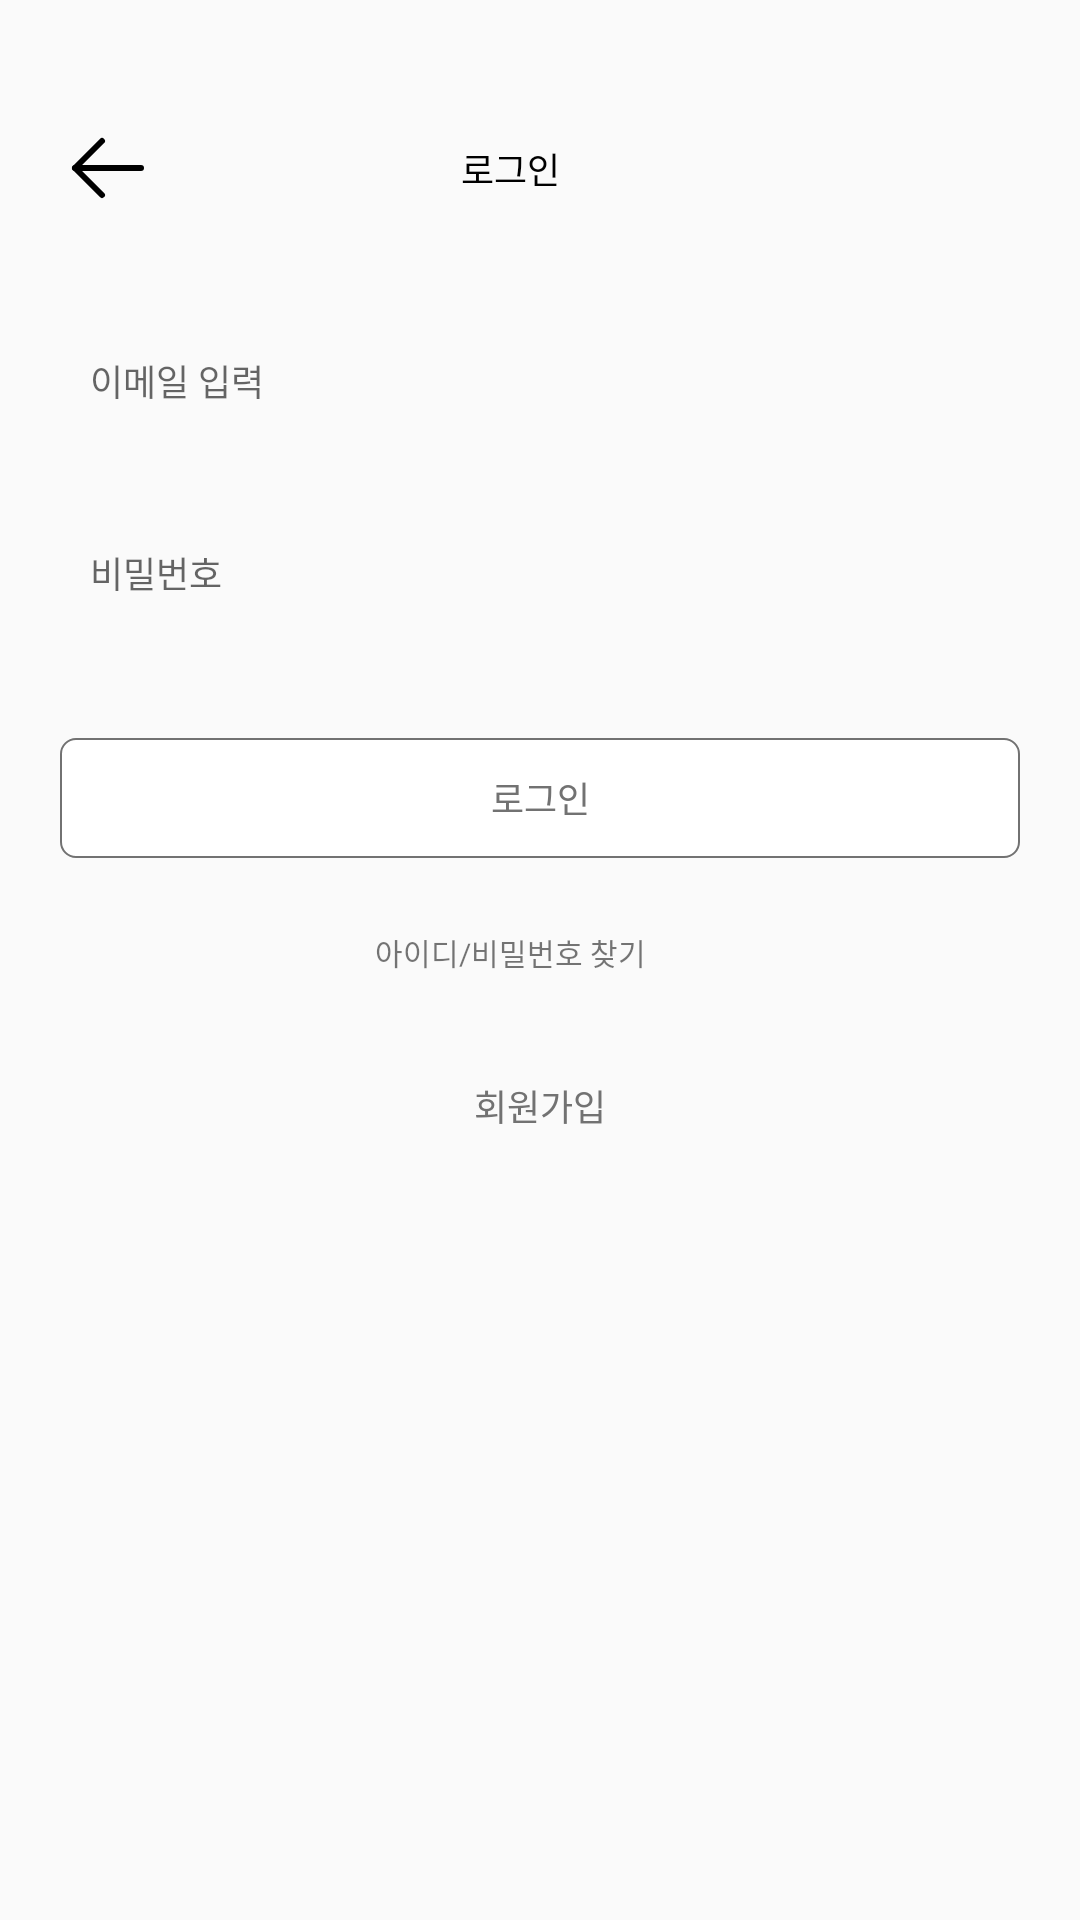

Icon click points for this 1080x1920 phone screenshot, format (x,y):
back: (108,167)
